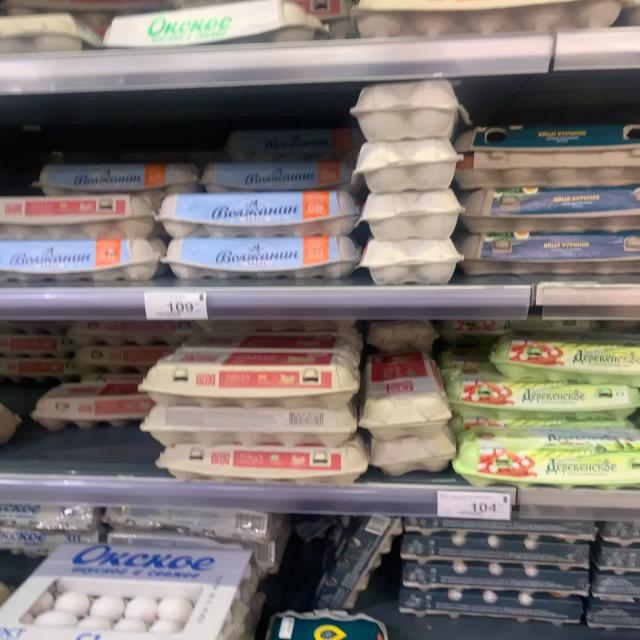egg box: (0, 540, 254, 637), (137, 350, 363, 405), (103, 0, 321, 53), (453, 430, 638, 489), (441, 369, 635, 425), (466, 123, 638, 185), (154, 188, 358, 238), (160, 237, 357, 282), (454, 228, 636, 276), (455, 188, 637, 233), (153, 444, 367, 481), (489, 334, 638, 384), (0, 196, 156, 242), (0, 241, 160, 281), (30, 160, 198, 195), (197, 158, 367, 192)
